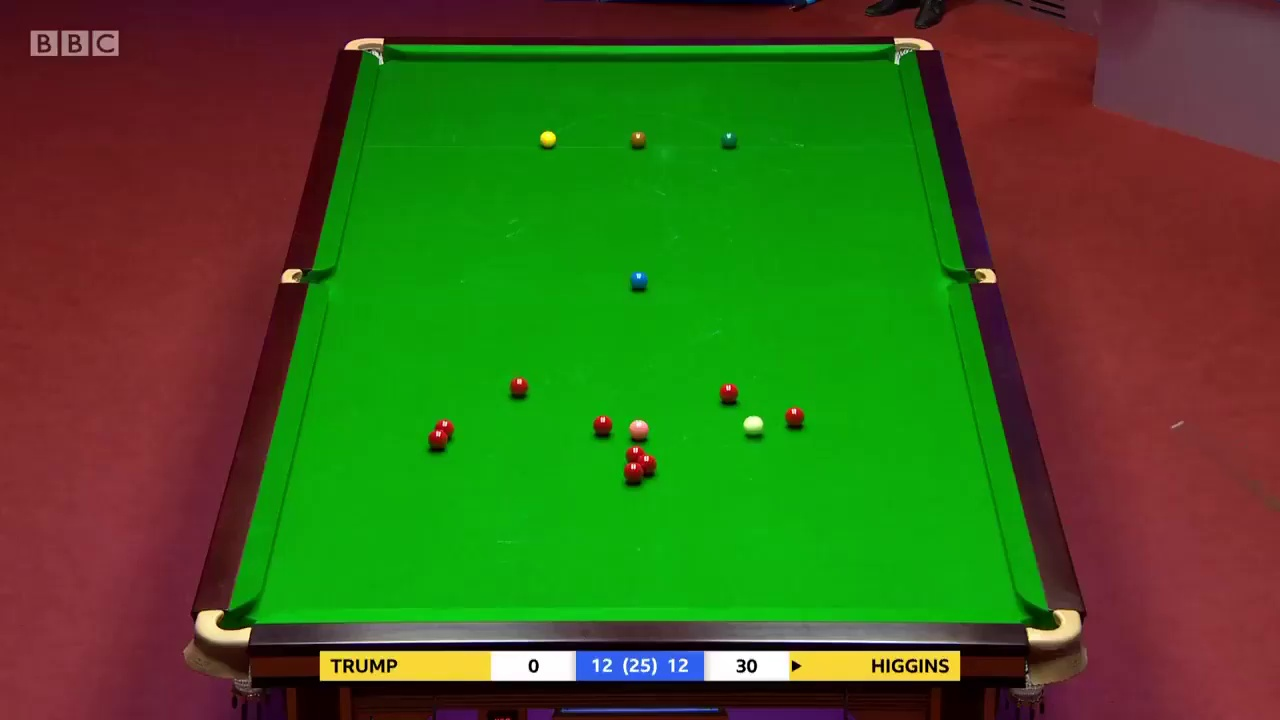ball: (427, 427, 448, 451), (718, 384, 739, 406), (591, 414, 613, 435), (782, 406, 805, 424), (627, 420, 648, 439), (744, 418, 765, 437), (626, 459, 641, 485), (509, 377, 528, 397), (538, 129, 558, 147), (628, 274, 650, 289), (723, 132, 739, 146), (631, 130, 644, 145)
